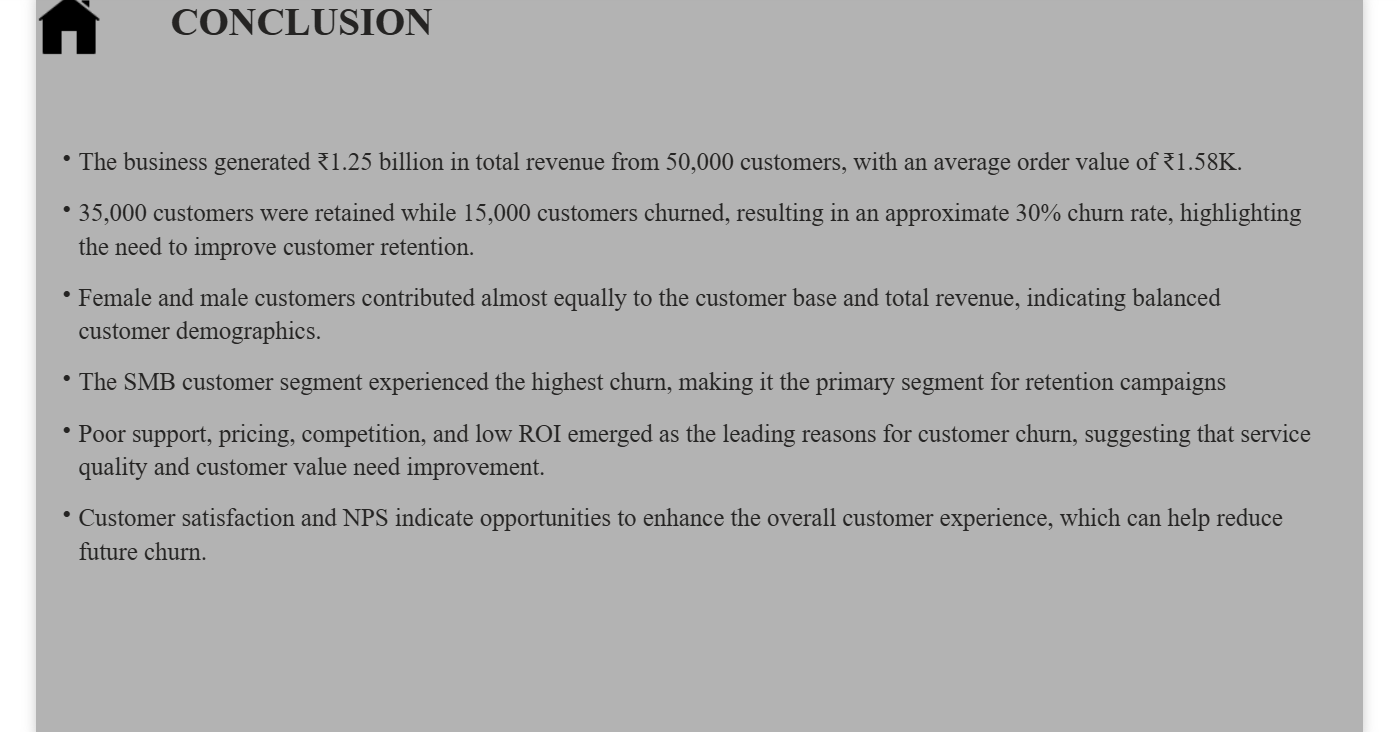

What the dashboard file says about the page in this screenshot:
{"tool":"powerbi","page":{"name":"Conclusion","canvas":[1280,720],"ordinal":7},"visuals":[{"type":"textbox","box":[9.7,0,493.4,61.5],"z":0},{"type":"image","box":[0,0,63.9,61.5],"z":1000},{"type":"textbox","box":[0,121.9,1241.4,497.1],"z":2000}]}

Visuals, with their boxes on the page's 1280x720 design canvas (x1, y1, x2, y2). These are canvas units, not pixel positions in the 1397x732 screenshot, which may show the page scaled, cropped or inside an application window:
textbox: x1=10, y1=0, x2=503, y2=62
image: x1=0, y1=0, x2=64, y2=62
textbox: x1=0, y1=122, x2=1241, y2=619
